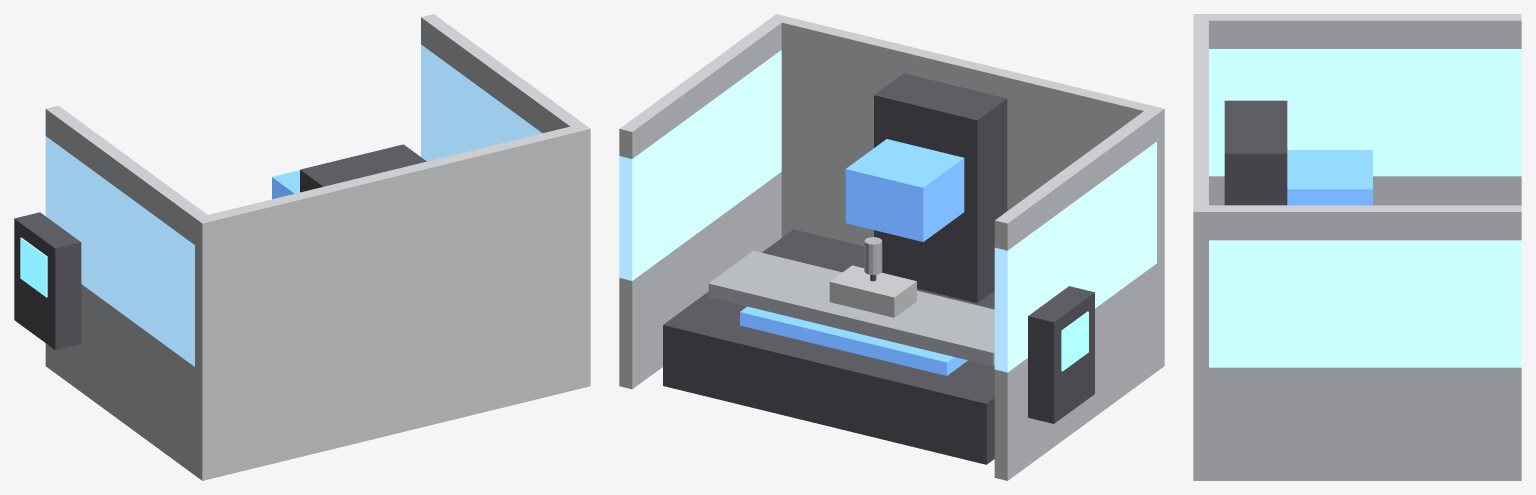
Rendered from wing-robot-hall-machinists.glb.
The picture shows the model from 3 angles, left to right: view 1: azimuth 30°, elevation 25°; view 2: azimuth 150°, elevation 25°; view 3: azimuth 270°, elevation 25°; orthographic projection. The views are drawn at different scales.
Visible parts, largest first — view 1: Robot · 3-axis CNC machine; view 2: Robot · 3-axis CNC machine; view 3: Robot · 3-axis CNC machine.
Boxes of the visible parts, x1,y1,x2,y2 form: Robot · 3-axis CNC machine: (14, 14, 590, 480); Robot · 3-axis CNC machine: (619, 14, 1164, 480); Robot · 3-axis CNC machine: (1193, 14, 1521, 480).
Size of the model in its own units: 6.62 by 3.8 by 4.2.
